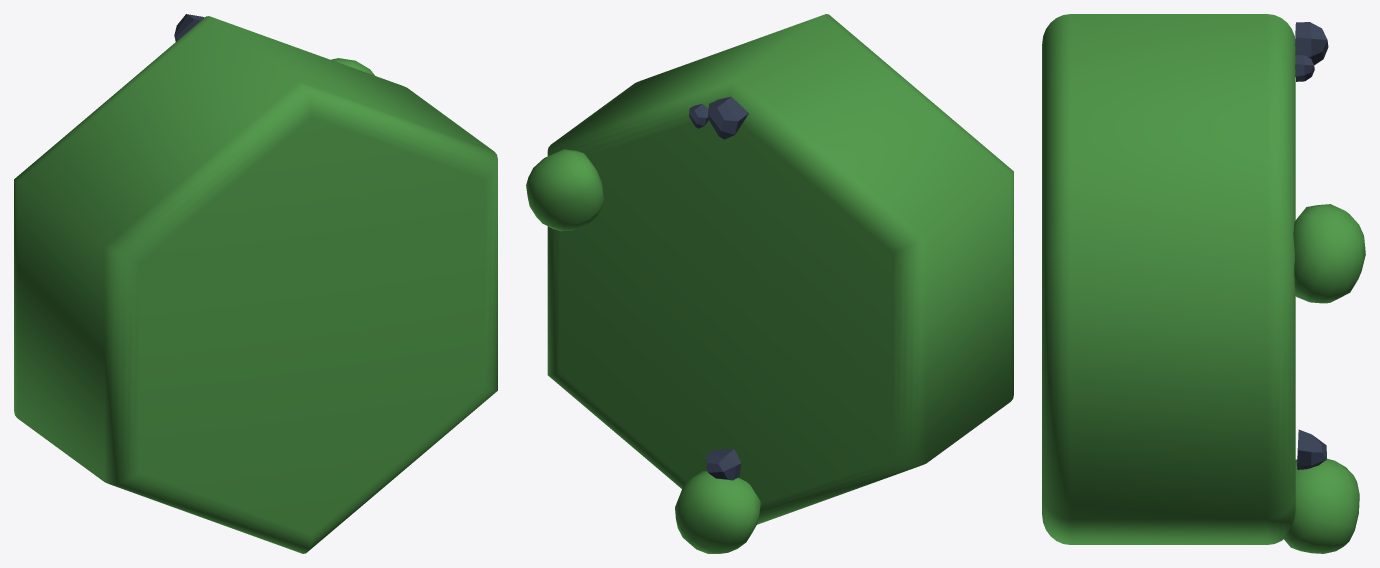
Rendered from GrassTile2.fbx.
The picture shows the model from 3 angles, left to right: view 1: azimuth 30°, elevation 25°; view 2: azimuth 150°, elevation 25°; view 3: azimuth 270°, elevation 25°; orthographic projection. The views are drawn at different scales.
Visible parts, largest first — view 1: Circle.005; view 2: Circle.005; view 3: Circle.005.
Part boxes in pixels (<box>): Circle.005: <box>14,14,497,553</box>; Circle.005: <box>526,14,1013,553</box>; Circle.005: <box>1042,14,1365,553</box>.
Bounding box in the file's own units: 200 × 233 × 128.
